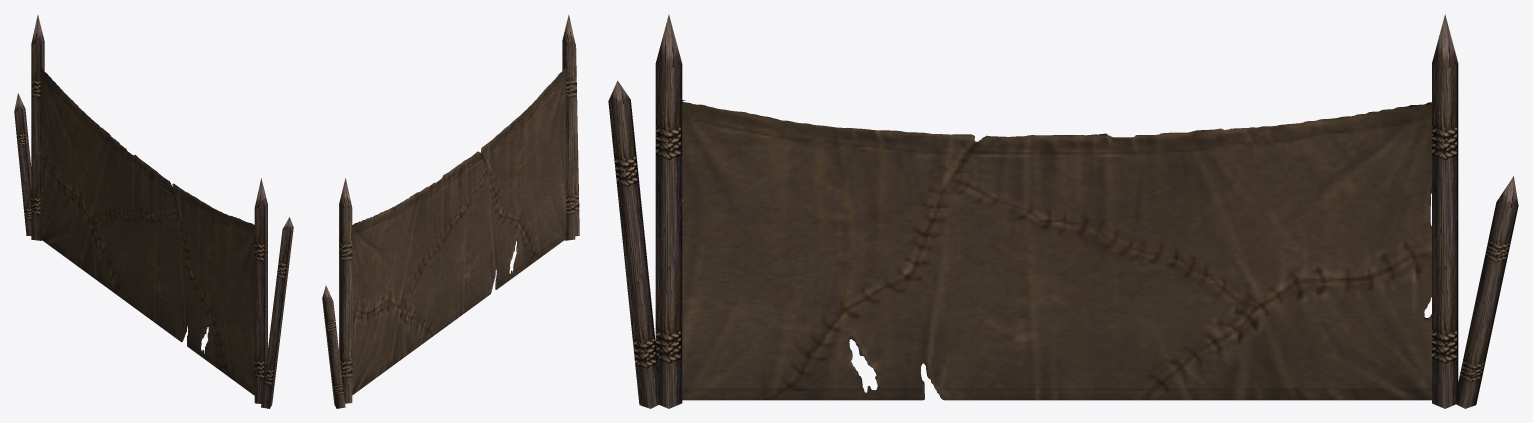
File: zhangpeng_yc_43.FBX
The picture shows the model from 3 angles, left to right: view 1: azimuth 30°, elevation 25°; view 2: azimuth 150°, elevation 25°; view 3: azimuth 270°, elevation 25°; orthographic projection. The views are drawn at different scales.
Parts seen in each view (by area): view 1: zhangpeng_yc_43; view 2: zhangpeng_yc_43; view 3: zhangpeng_yc_43.
Part boxes in pixels (x1,y1,x2,y2): zhangpeng_yc_43: (14, 14, 293, 408); zhangpeng_yc_43: (322, 14, 579, 408); zhangpeng_yc_43: (608, 14, 1518, 408).
Size of what is drawn, in the model's own units: 45.72 by 397 by 837.
